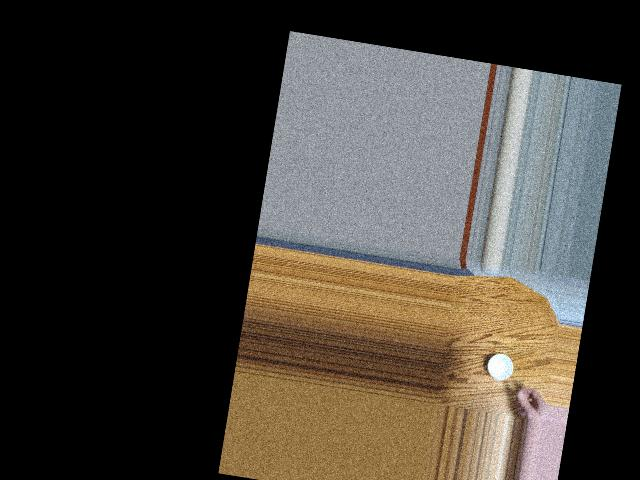cotage: (485, 349, 518, 386)
